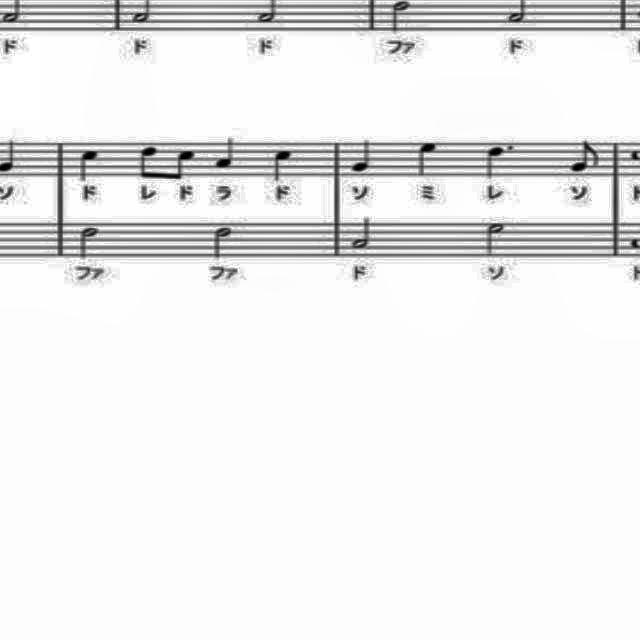Eighth-note: (568, 138, 604, 174), (168, 144, 198, 183), (136, 142, 160, 182)
Half-note: (350, 213, 386, 254), (73, 223, 107, 264), (211, 222, 241, 266), (483, 220, 513, 260), (387, 0, 411, 34)
Quarter-dot: (476, 137, 520, 183)
Quarter-note: (412, 135, 441, 179), (349, 135, 377, 177), (212, 132, 240, 172), (267, 148, 297, 184), (73, 146, 101, 184)
